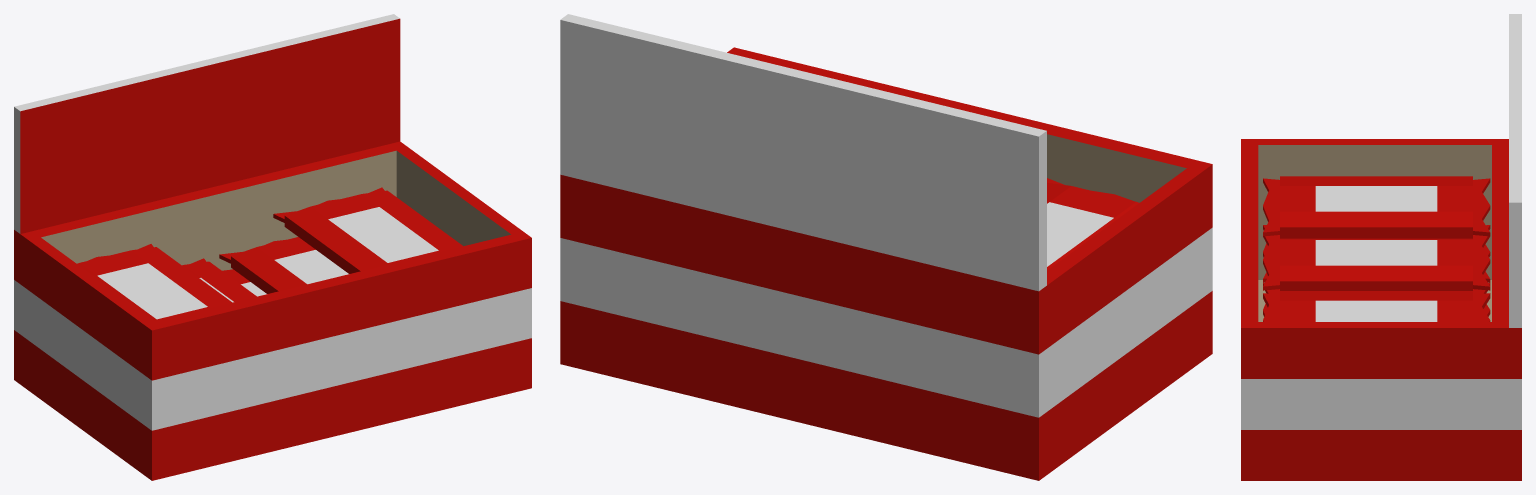
Rendered from Ma_Chocolats.fbx.
3 renders of one model, left to right at view 1: azimuth 30°, elevation 25°; view 2: azimuth 150°, elevation 25°; view 3: azimuth 270°, elevation 25°, orthographic. The views are drawn at different scales.
Visible parts, largest first — view 1: Ma_Chocolats; view 2: Ma_Chocolats; view 3: Ma_Chocolats.
Boxes of the visible parts, x1=… form: Ma_Chocolats: x1=14, y1=14, x2=531, y2=480; Ma_Chocolats: x1=560, y1=14, x2=1212, y2=480; Ma_Chocolats: x1=1241, y1=14, x2=1521, y2=480.
Size of the model in its own units: 235 by 148 by 161.
